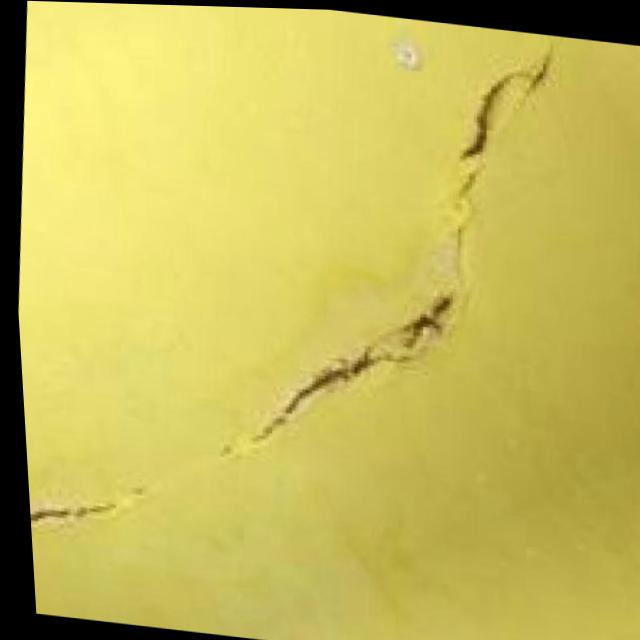Crack: (175, 4, 587, 529), (20, 437, 136, 556)
